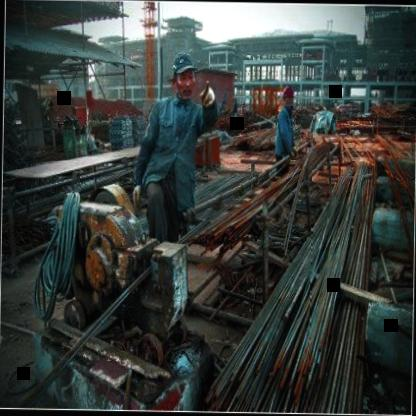head: (166, 46, 200, 98)
helmet: (278, 82, 297, 113)
